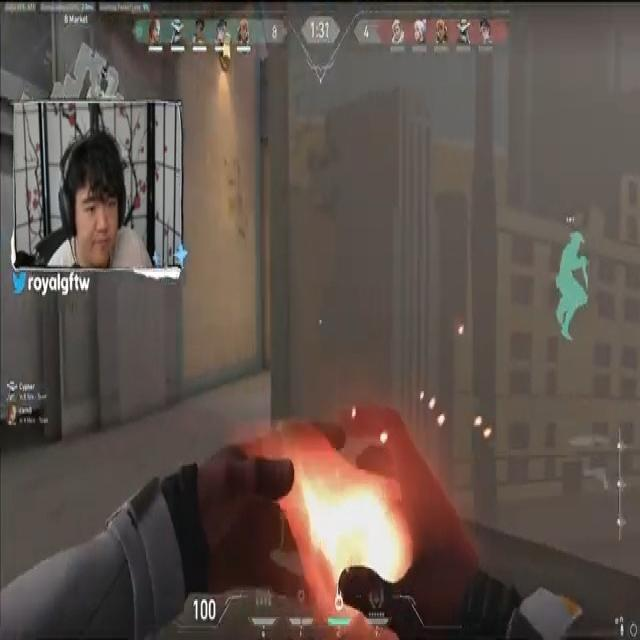ally behind wall: (556, 231, 589, 339)
